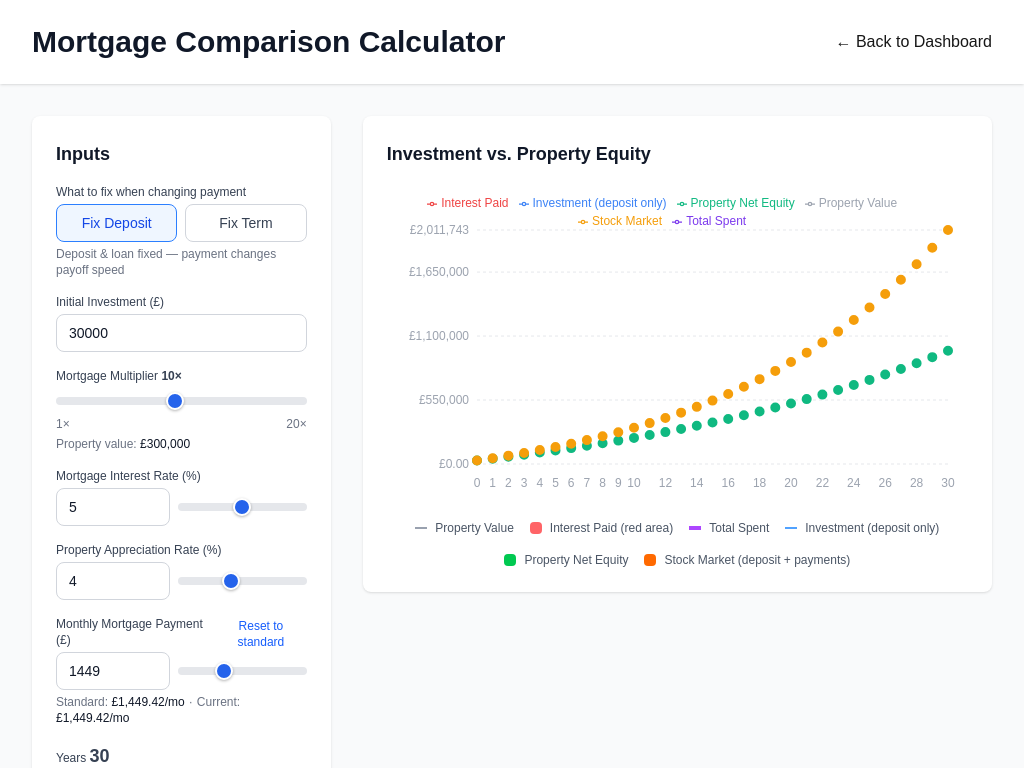
Test: MortgageComparisonCalculator component › switches back to Fix Deposit mode
The width and height of the screenshot is (1024, 768).
Click the button "Fix Term".
click(246, 223)  # box [185, 204, 307, 242]
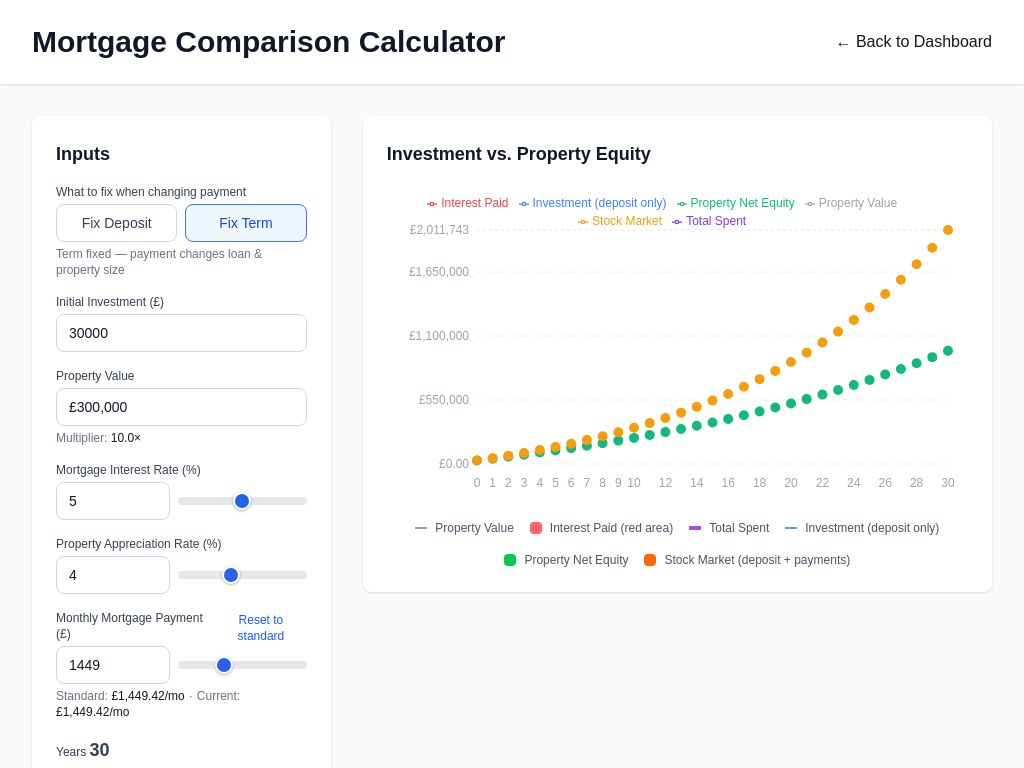
Check: the text "Mortgage Multiplier" is gone
Click the button "Fix Deposit".
click(117, 223)  # box [56, 204, 177, 242]
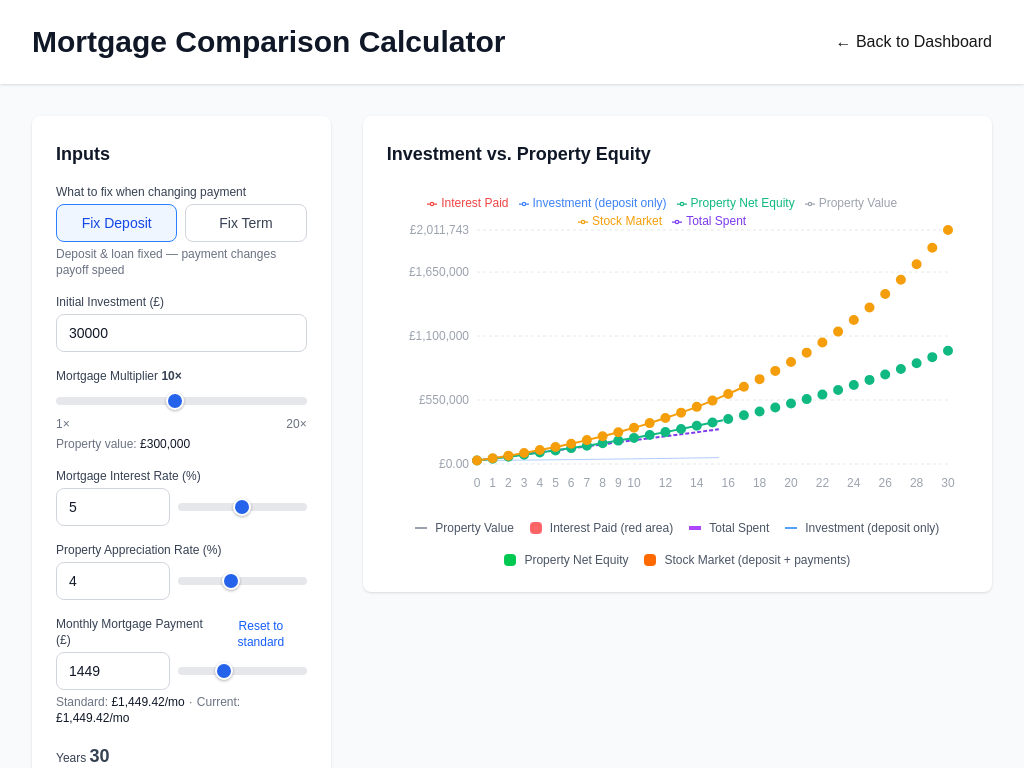
Check: the text "Mortgage Multiplier" is shown, box [56, 369, 158, 383]
